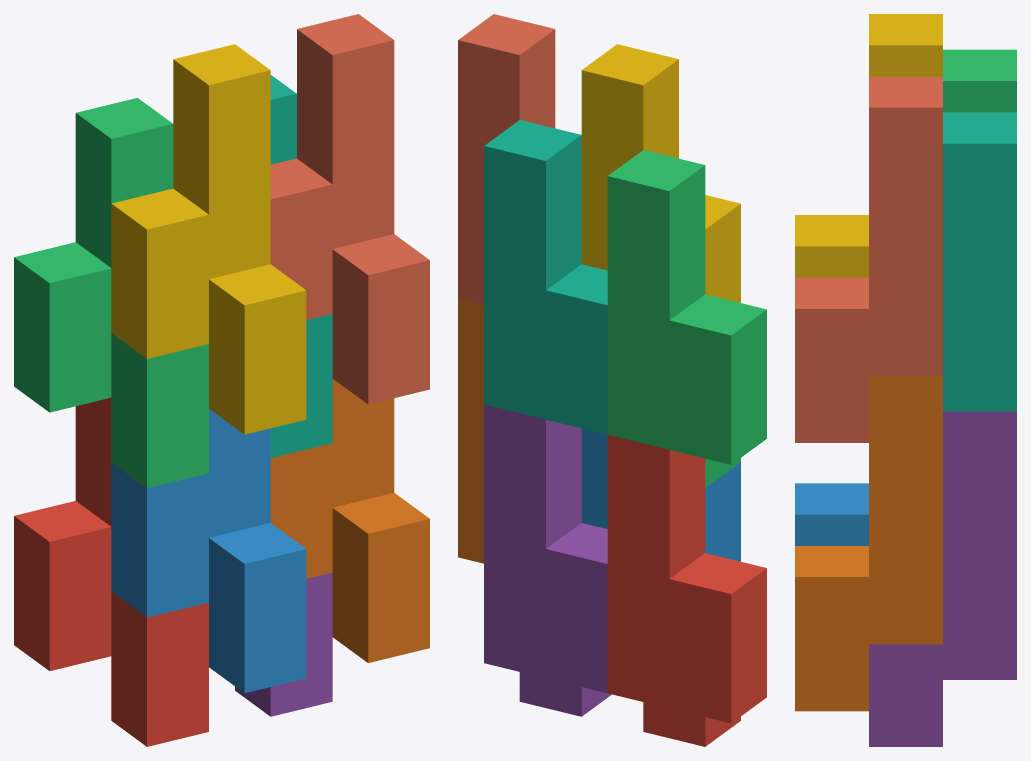
The model's file is tiling.obj.
The picture shows the model from 3 angles, left to right: view 1: azimuth 30°, elevation 25°; view 2: azimuth 150°, elevation 25°; view 3: azimuth 270°, elevation 25°; orthographic projection. The views are drawn at different scales.
Visible parts, largest first — view 1: copy_1_domain_4, copy_1_domain_8, copy_1_domain_3, copy_1_domain_2, copy_1_domain_1, copy_1_domain_6, copy_1_domain_7, copy_1_domain_5; view 2: copy_1_domain_3, copy_1_domain_1, copy_1_domain_7, copy_1_domain_5, copy_1_domain_4, copy_1_domain_8, copy_1_domain_6, copy_1_domain_2; view 3: copy_1_domain_8, copy_1_domain_6, copy_1_domain_5, copy_1_domain_7, copy_1_domain_4, copy_1_domain_3, copy_1_domain_2.
Part boxes in pixels (x1,y1,x2,y2): copy_1_domain_4: [111, 44, 306, 434]; copy_1_domain_8: [270, 14, 429, 404]; copy_1_domain_3: [14, 98, 208, 488]; copy_1_domain_2: [111, 409, 306, 693]; copy_1_domain_1: [14, 398, 208, 746]; copy_1_domain_6: [270, 379, 429, 662]; copy_1_domain_7: [270, 75, 332, 457]; copy_1_domain_5: [235, 572, 332, 716]; copy_1_domain_3: [607, 150, 766, 487]; copy_1_domain_1: [607, 435, 766, 746]; copy_1_domain_7: [484, 120, 607, 434]; copy_1_domain_5: [484, 404, 611, 716]; copy_1_domain_4: [581, 44, 740, 302]; copy_1_domain_8: [458, 14, 555, 304]; copy_1_domain_6: [458, 299, 483, 563]; copy_1_domain_2: [581, 428, 740, 561]; copy_1_domain_8: [795, 76, 942, 442]; copy_1_domain_6: [795, 376, 942, 711]; copy_1_domain_5: [869, 411, 1016, 746]; copy_1_domain_7: [943, 112, 1016, 411]; copy_1_domain_4: [795, 14, 942, 277]; copy_1_domain_3: [943, 49, 1016, 112]; copy_1_domain_2: [795, 483, 868, 545].
Bounding box in the file's own units: 5 × 10 × 3.
